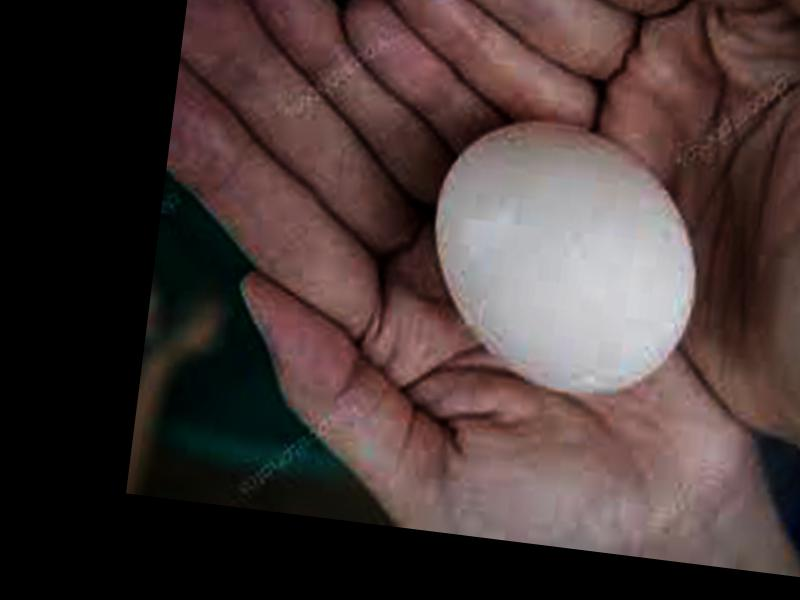Eggs: (416, 116, 710, 399)
